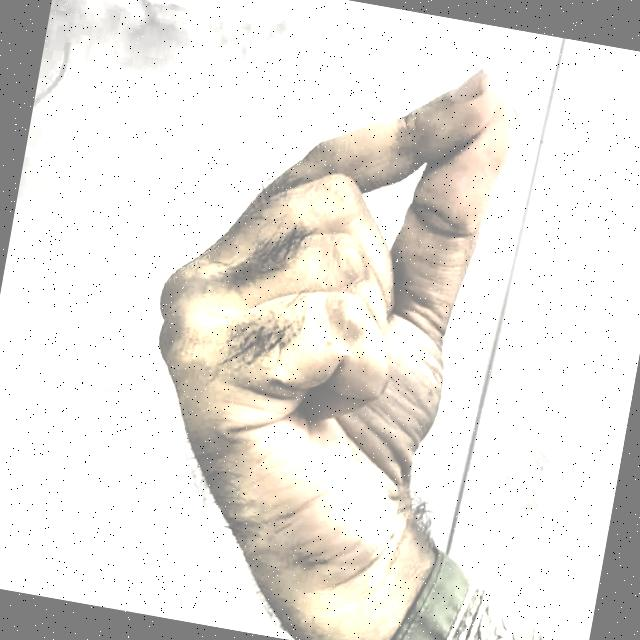Anusshar: (97, 7, 577, 636)
